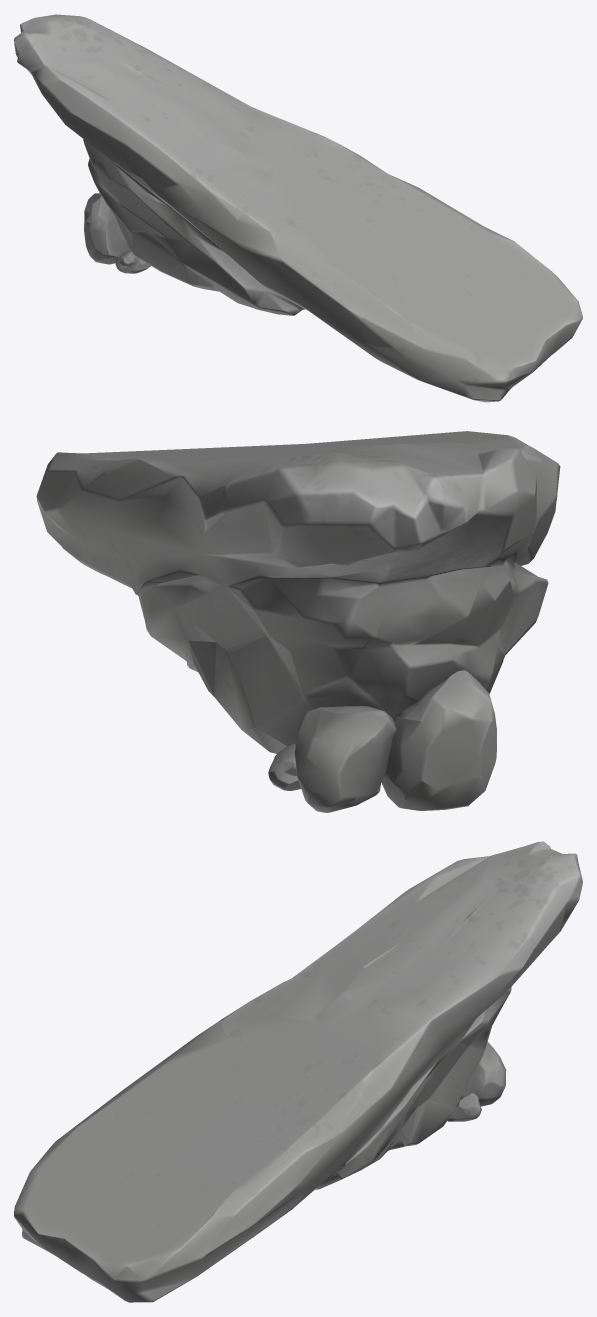
File: Urock01.fbx
3 renders of one model, top to bottom at view 1: azimuth 30°, elevation 25°; view 2: azimuth 150°, elevation 25°; view 3: azimuth 270°, elevation 25°, orthographic. The views are drawn at different scales.
Parts seen in each view (by area): view 1: u_test01; view 2: u_test01; view 3: u_test01.
Boxes of the visible parts, x1=… form: u_test01: x1=14, y1=14, x2=582, y2=402; u_test01: x1=36, y1=431, x2=560, y2=812; u_test01: x1=14, y1=841, x2=582, y2=1302.
Bounding box in the file's own units: 2589 × 1643 × 3077.
Materials: 1 (1 with a texture image).
